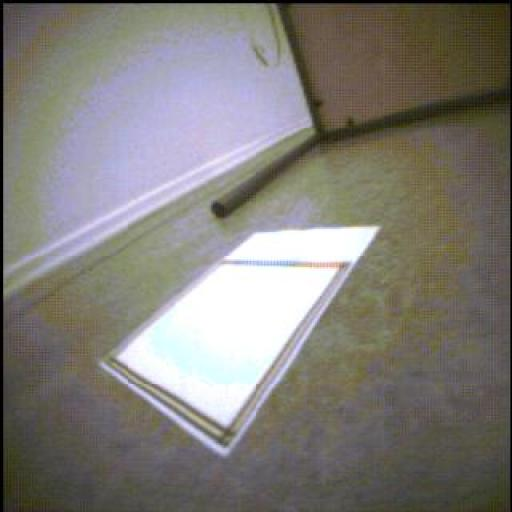Pad: (102, 227, 380, 456)
